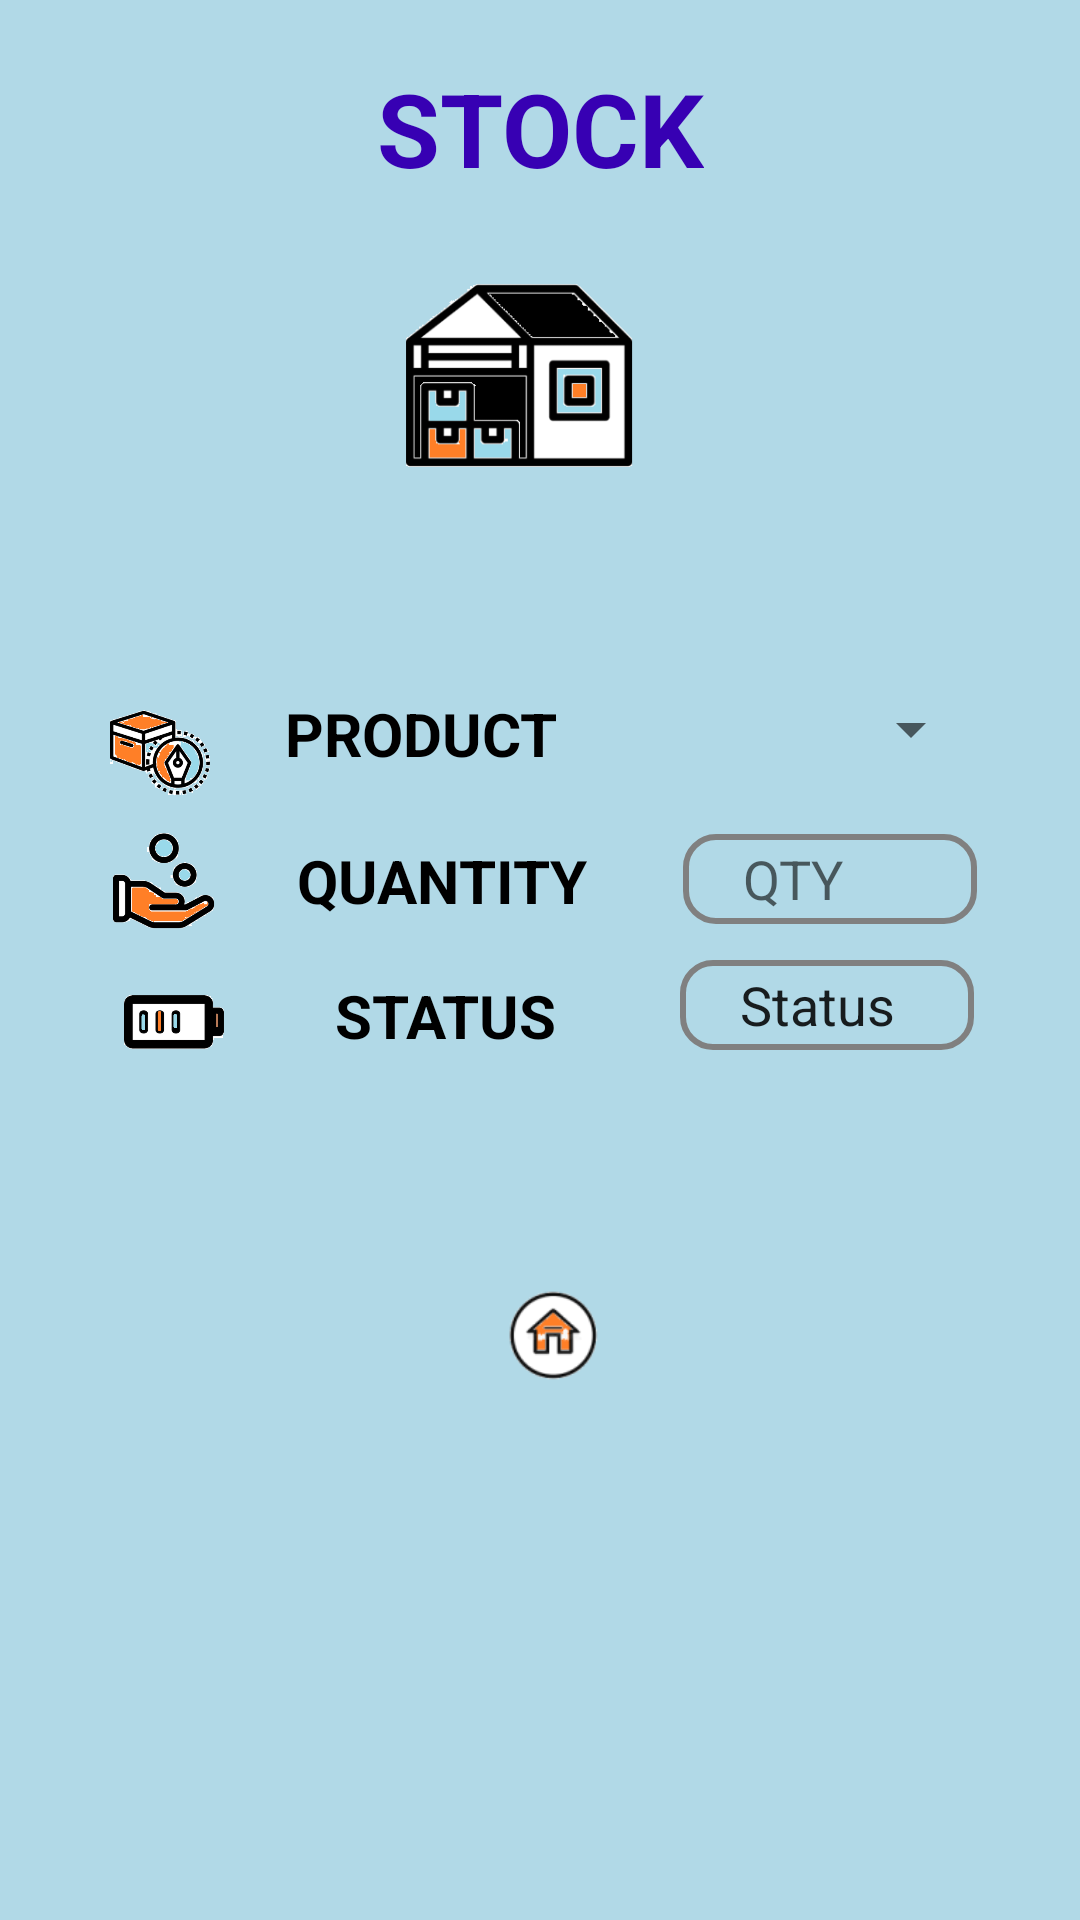

Point at icon controls on the screen. Image size 1080×1920, points as (x=x, y=y).
comodity: (x=160, y=752)
